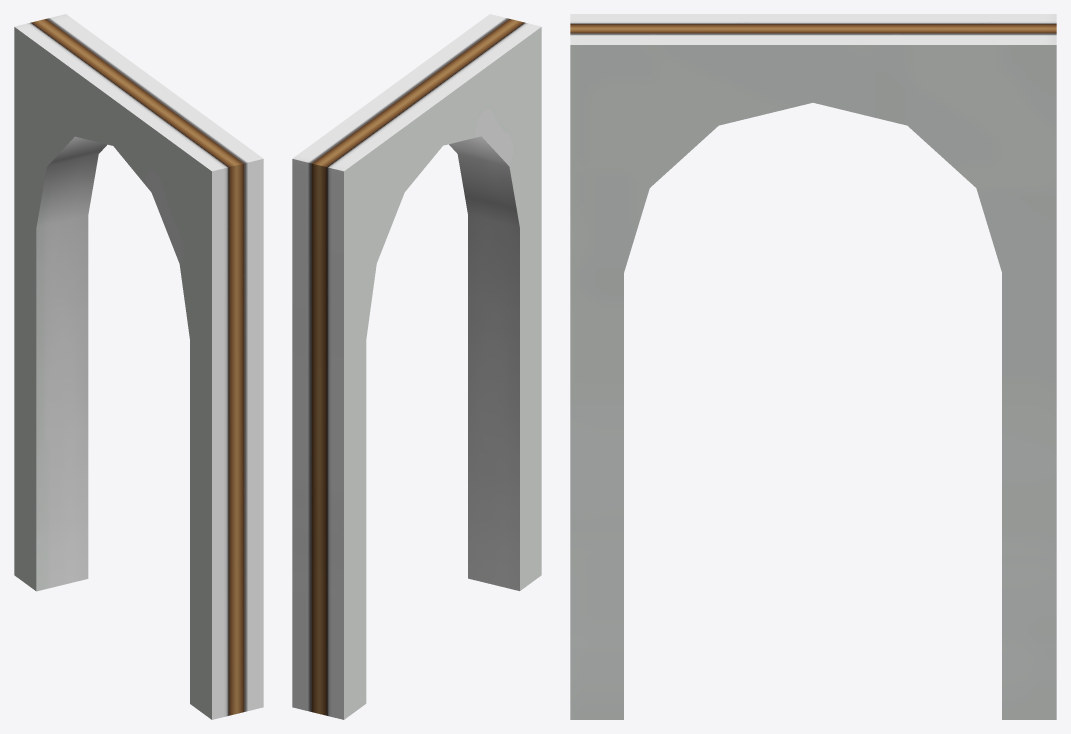
File: archWay.fbx
The picture shows the model from 3 angles, left to right: view 1: azimuth 30°, elevation 25°; view 2: azimuth 150°, elevation 25°; view 3: azimuth 270°, elevation 25°; orthographic projection. The views are drawn at different scales.
Visible parts, largest first — view 1: unwrapped:pCube30; view 2: unwrapped:pCube30; view 3: unwrapped:pCube30.
Boxes of the visible parts, bbox=[...] form: unwrapped:pCube30: bbox=[14, 14, 263, 719]; unwrapped:pCube30: bbox=[292, 14, 541, 719]; unwrapped:pCube30: bbox=[570, 14, 1056, 719].
Bounding box in the file's own units: 26.3 × 266 × 174.
